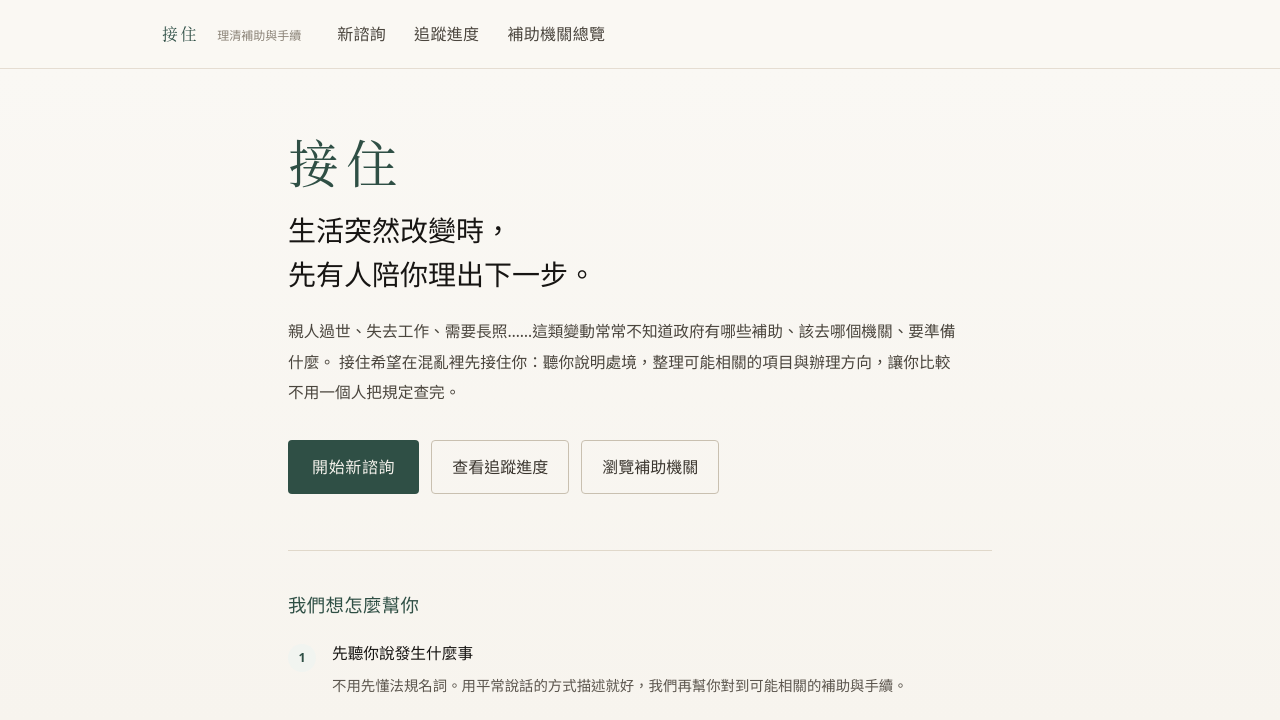
it: App › opens on the product home and returns via the brand mark
Expected: the heading "生活突然改變時，先有人陪你理出下一步。" is shown, [288,211,596,293]
Expected: the button with aria-label "回到接住主頁" is shown, [156,18,205,50]
Click the button "開始新諮詢".
click(354, 467)  # box [288,440,419,494]
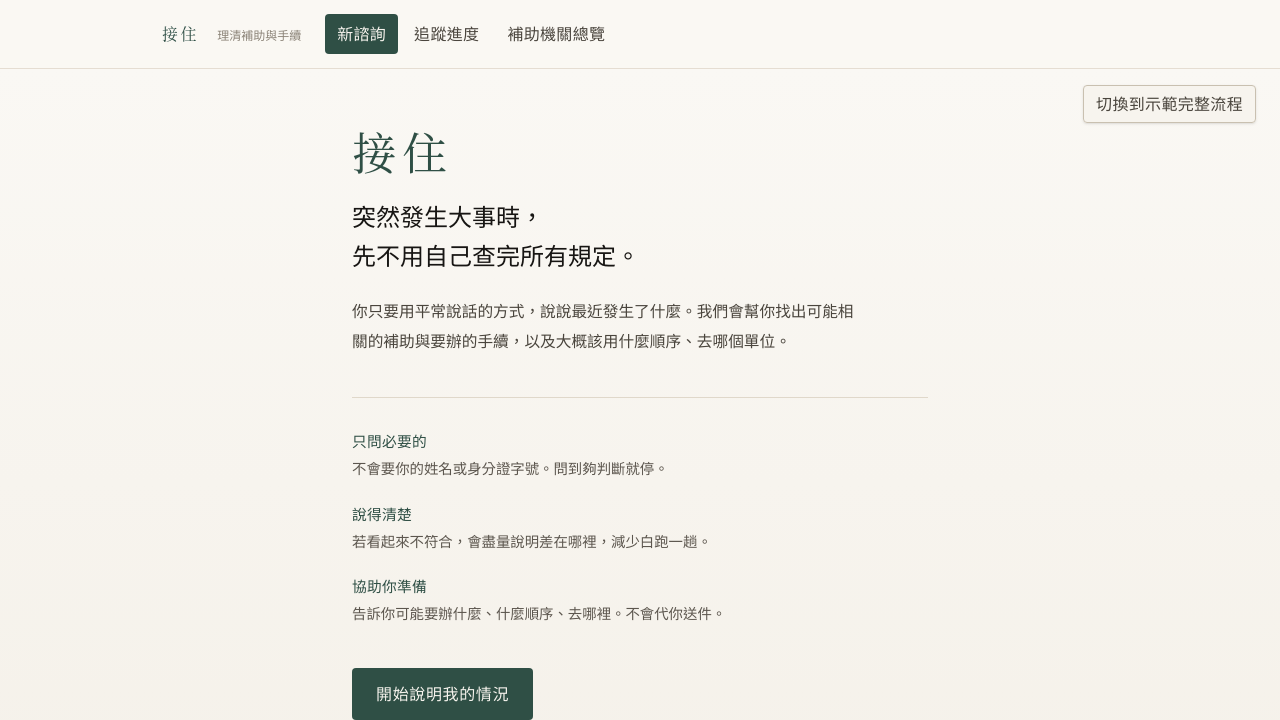
Result: the button "開始說明我的情況" is shown at [352,668,533,719]
Click the button with aria-label "回到接住主頁".
click(181, 34)  # box [156,18,205,50]
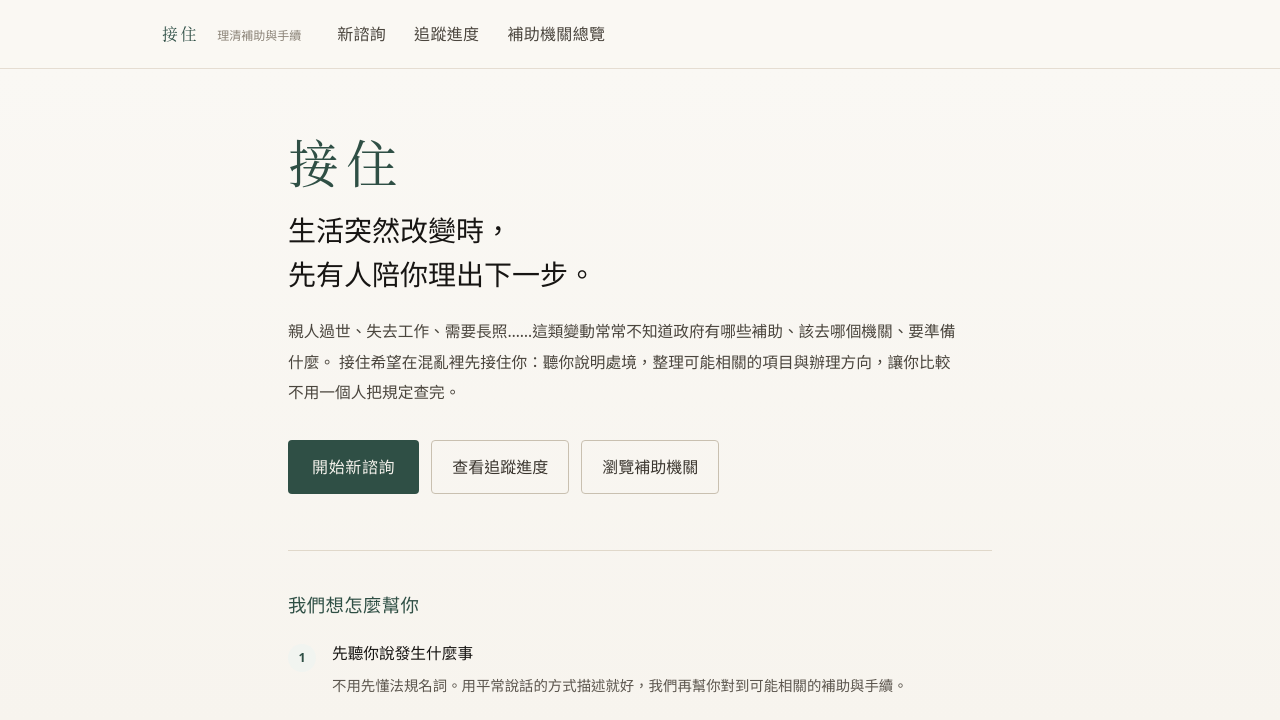
Result: the heading "生活突然改變時，先有人陪你理出下一步。" is shown at [288,211,596,293]
